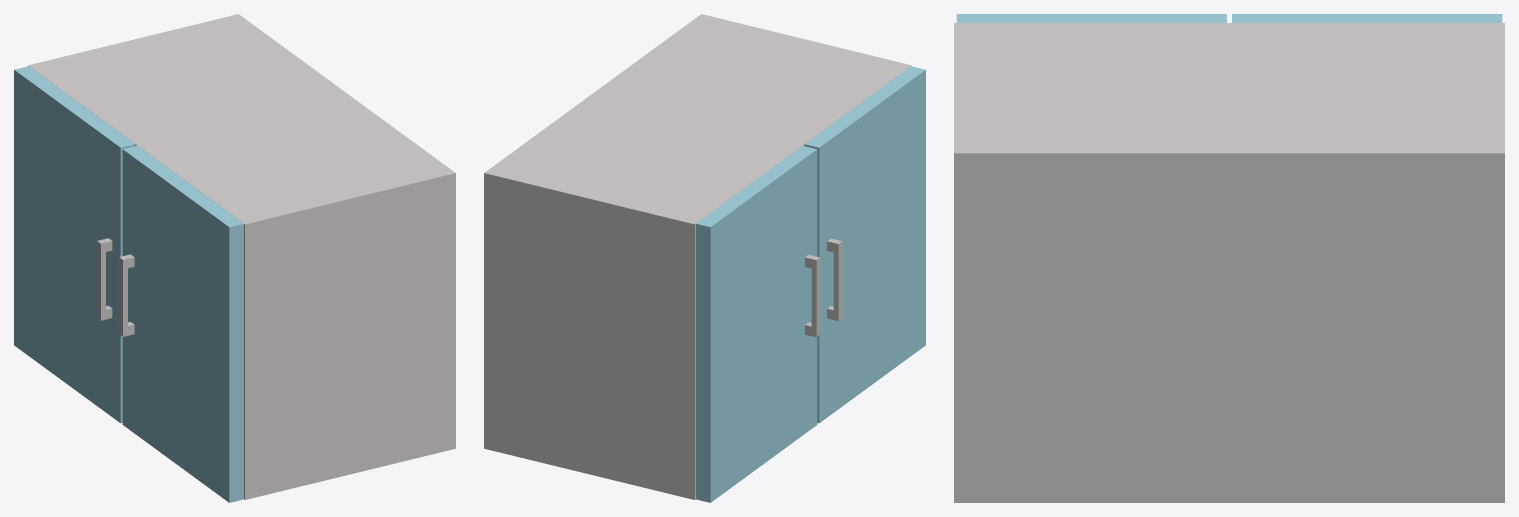
File: Long_Counter - NoParenting.fbx
3 views of the same model, side by side, from view 1: azimuth 30°, elevation 25°; view 2: azimuth 150°, elevation 25°; view 3: azimuth 270°, elevation 25° (orthographic). The views are drawn at different scales.
Visible parts, largest first — view 1: Long_Counter, Right_Door - Long_Counter, Left_Door - Long_Counter; view 2: Long_Counter, Left_Door - Long_Counter, Right_Door - Long_Counter; view 3: Long_Counter, Left_Door - Long_Counter, Right_Door - Long_Counter.
Part boxes in pixels (<box>): Long_Counter: <box>28,14,455,499</box>; Right_Door - Long_Counter: <box>119,145,243,502</box>; Left_Door - Long_Counter: <box>14,66,135,423</box>; Long_Counter: <box>484,14,911,499</box>; Left_Door - Long_Counter: <box>696,145,820,502</box>; Right_Door - Long_Counter: <box>804,66,925,423</box>; Long_Counter: <box>954,23,1504,502</box>; Left_Door - Long_Counter: <box>1232,14,1502,22</box>; Right_Door - Long_Counter: <box>956,14,1226,22</box>.
Bounding box in the file's own units: 0.6297 × 0.7 × 1.
